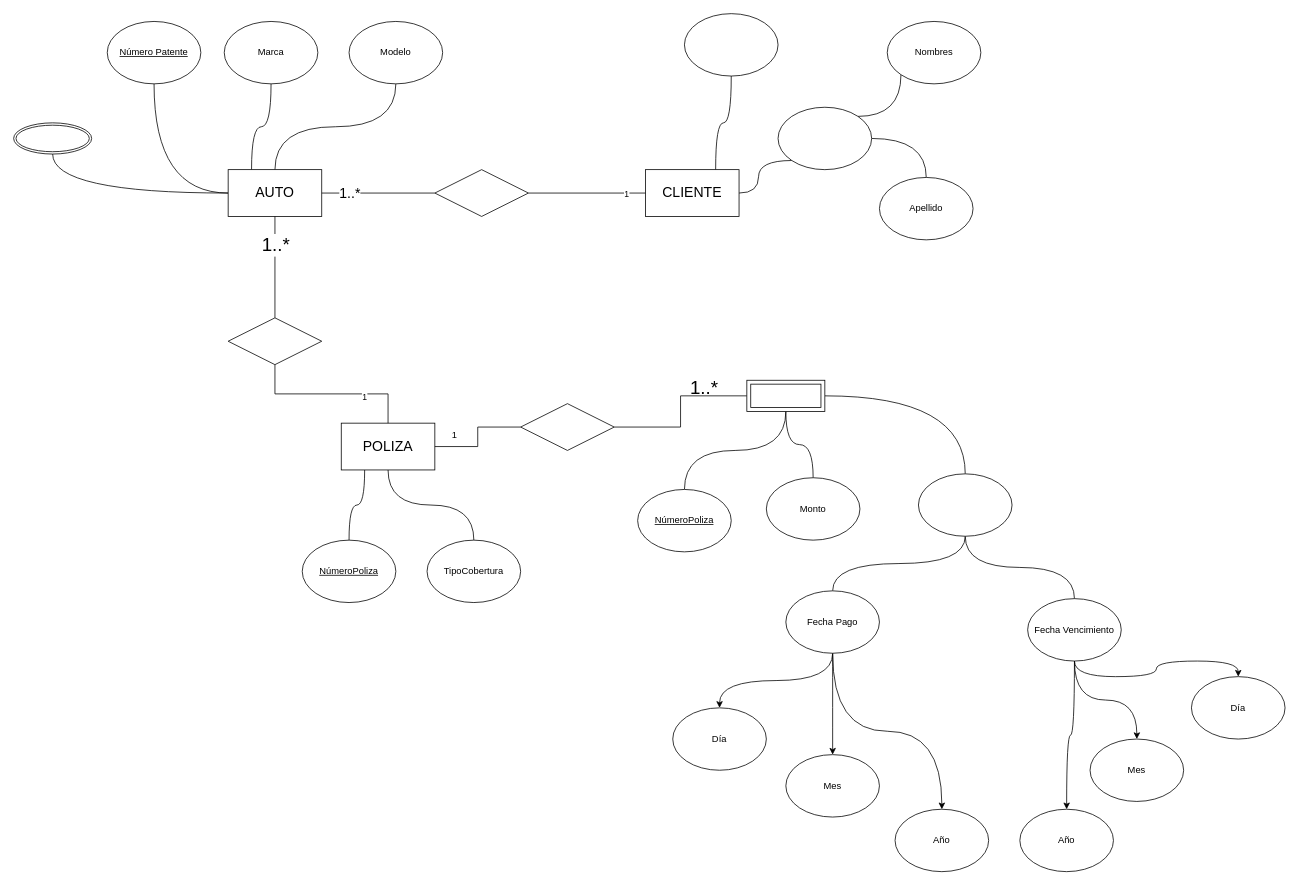
Image size: 1299x885. Some labels were removed from this diagram. Here are the shapes that lost their labels. From the top down, the box of each, then its label:
(684, 13, 778, 76): DNI
(13, 122, 92, 154): Accidentes
(777, 106, 872, 170): Nombre
(434, 169, 528, 216): Posee
(227, 317, 322, 365): Cubre
(746, 379, 825, 411): Pago
(520, 403, 614, 450): Tiene
(918, 473, 1012, 536): Periodo
